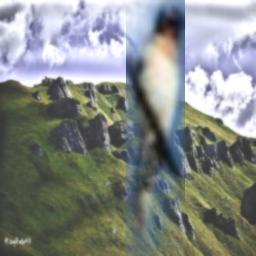Swallow: (126, 0, 185, 256)
